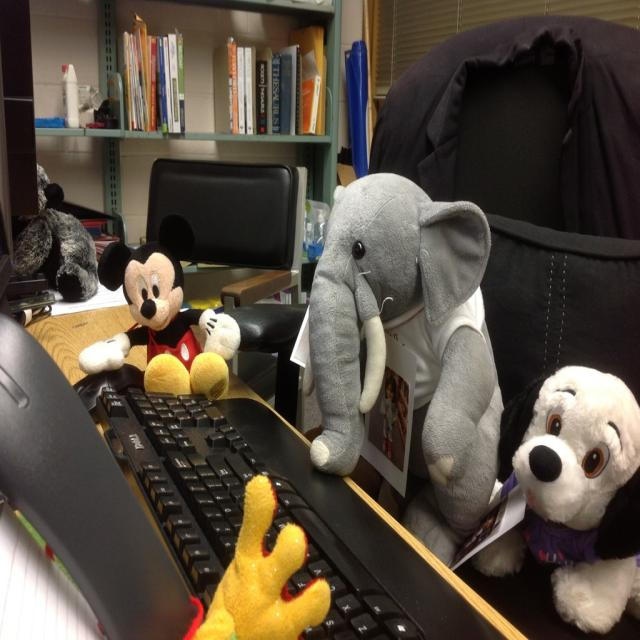elephant: (266, 151, 516, 526)
